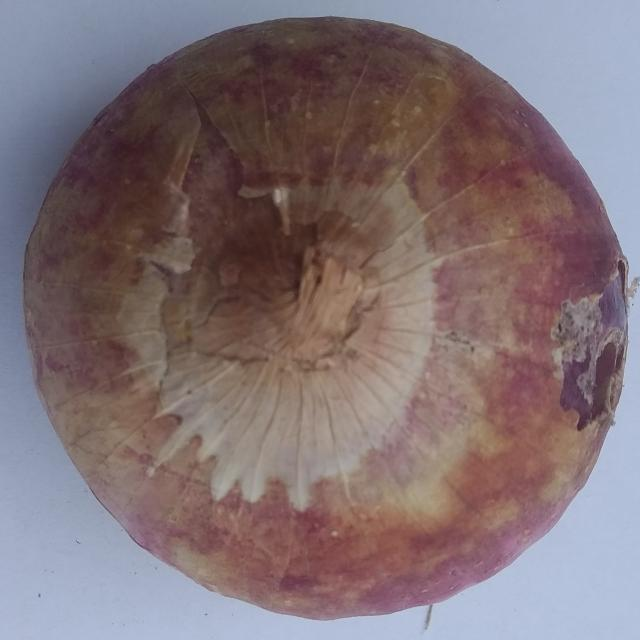onion: (21, 15, 638, 627)
